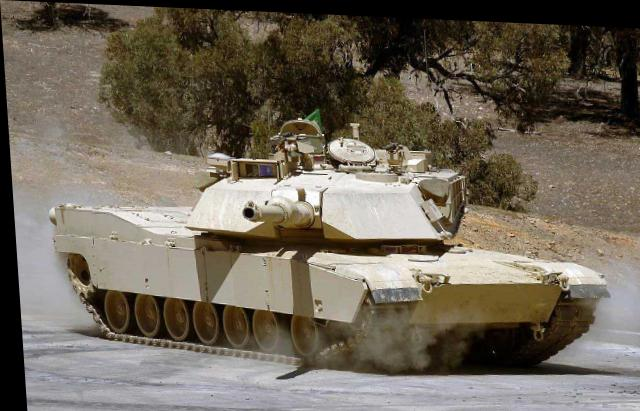tank: (44, 142, 586, 371)
